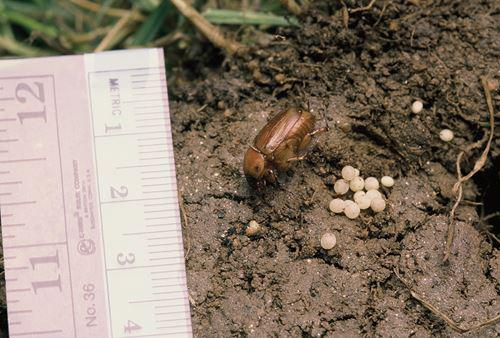grub: (242, 103, 318, 190)
